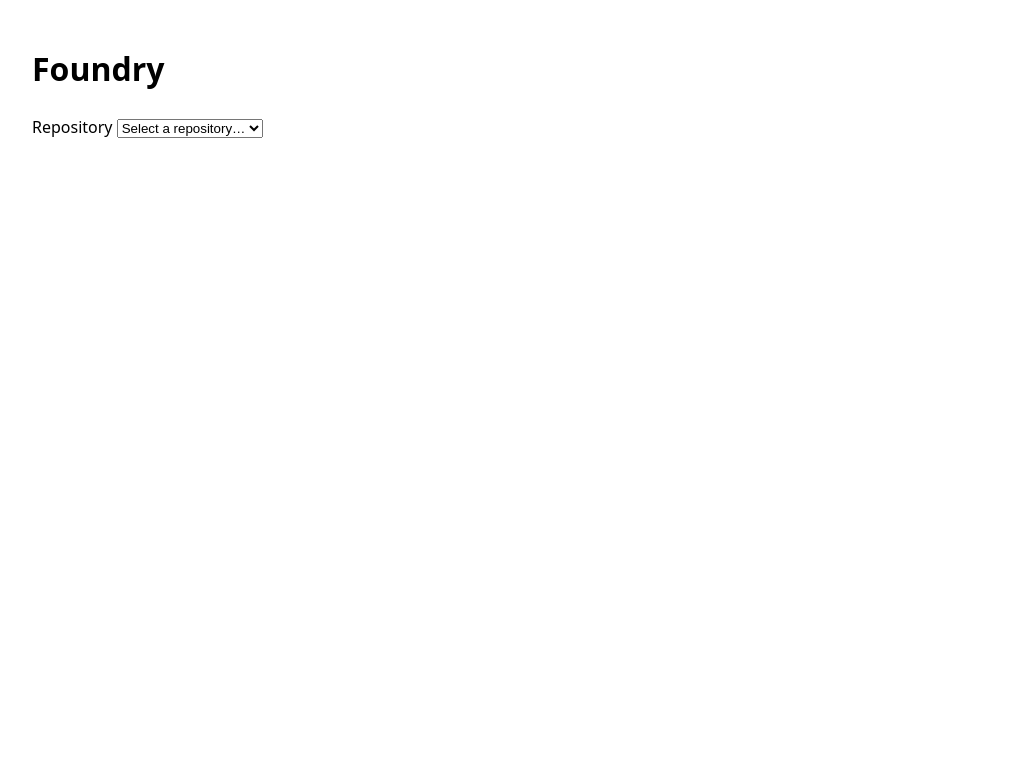
Investigate run record › shows an unknown stop reason and outcome through the default branch
This screenshot has width=1024, height=760.
Step 1. Select "acme/demo (3 files)" in the dropdown labelled "Repository" → x=190, y=128, box top-left (117, 119), bottom-right (263, 138)
(page scrolled)
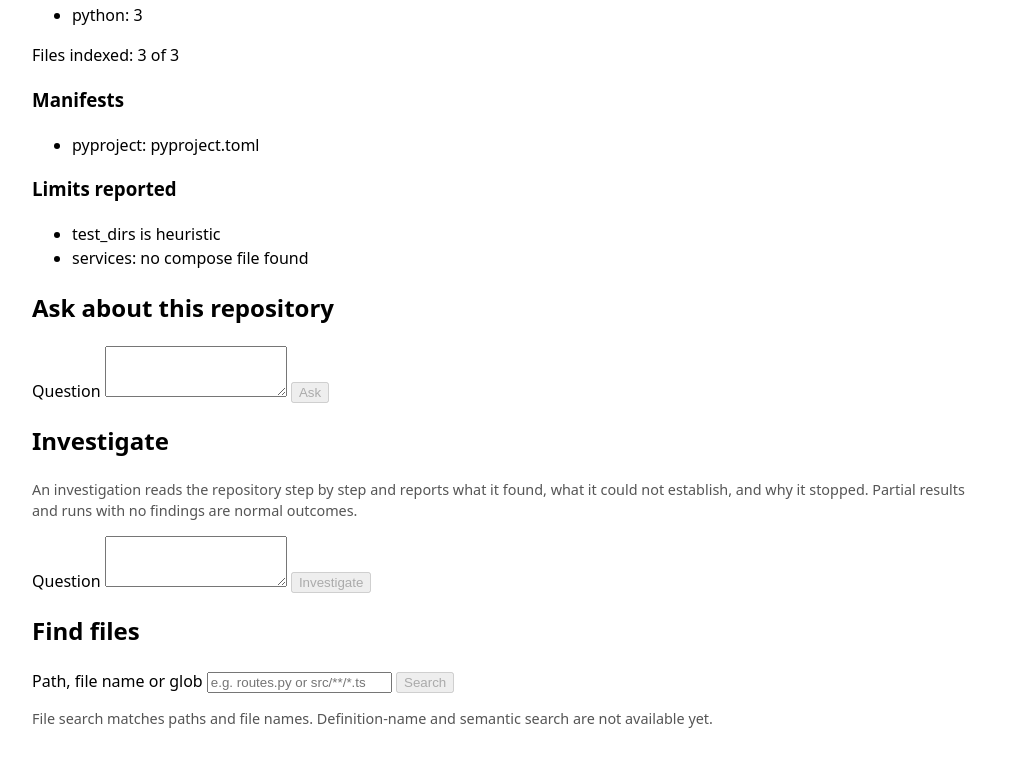
Step 2. Type "Where is recovery?" into the 2nd text box labelled "Question" → x=196, y=562, box top-left (105, 536), bottom-right (287, 588)
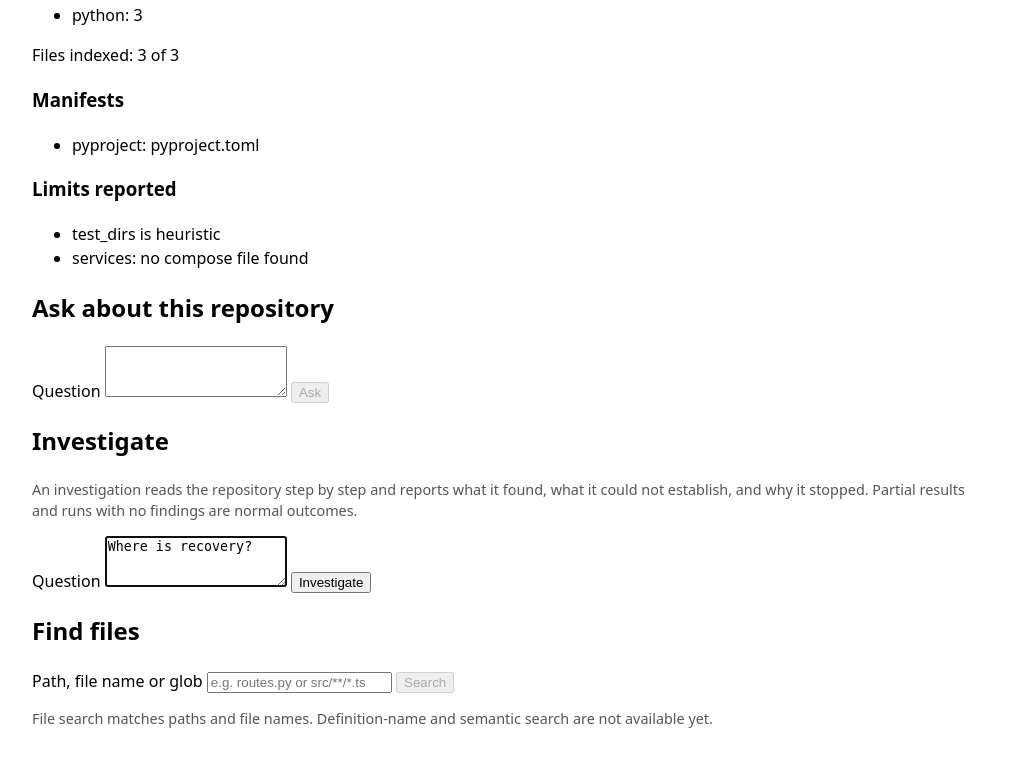
Step 3. Click the submit button → x=331, y=583, box top-left (291, 572), bottom-right (371, 594)
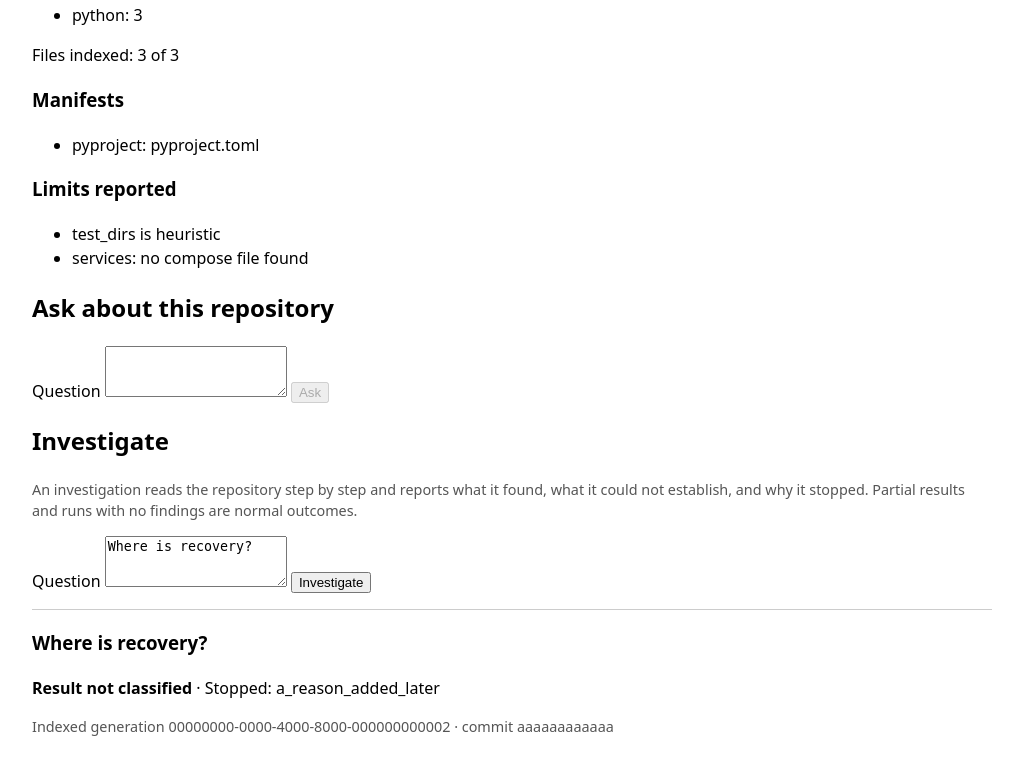
Expected: the text "Result not classified" is shown, top-left (32, 677), bottom-right (192, 699)
Expected: the text "Result not classified · Stopped: a_reason_added_later" is shown, top-left (32, 677), bottom-right (440, 699)
